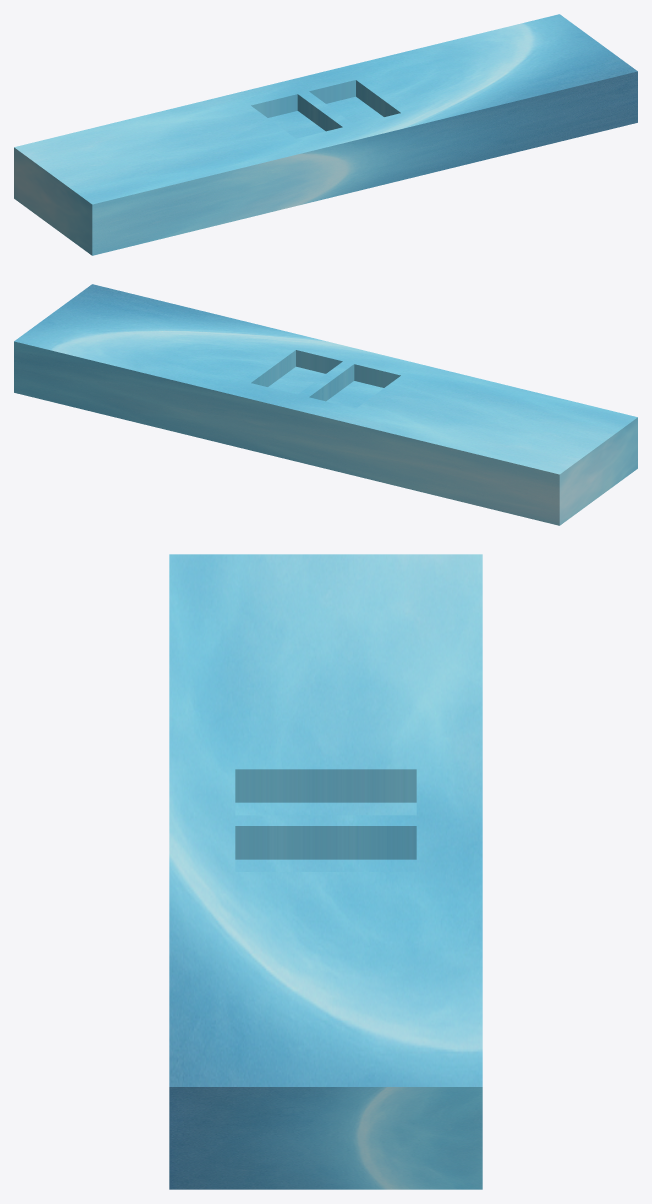
Rendered from rod_d.obj.
3 views of the same model, one above another, from view 1: azimuth 30°, elevation 25°; view 2: azimuth 150°, elevation 25°; view 3: azimuth 270°, elevation 25° (orthographic). The views are drawn at different scales.
Parts seen in each view (by area): view 1: rod_d; view 2: rod_d; view 3: rod_d.
Part boxes in pixels (x1=…): rod_d: x1=14, y1=14, x2=637, y2=255; rod_d: x1=14, y1=284, x2=637, y2=525; rod_d: x1=169, y1=554, x2=482, y2=1189.
Bounding box in the file's own units: 3 × 0.2697 × 0.7454.
Materials: 1 (1 with a texture image).
